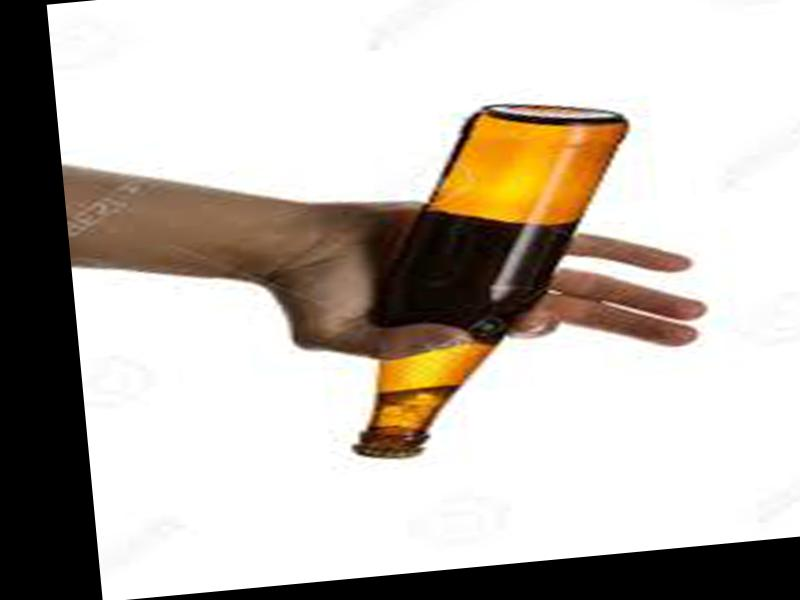Beer: (329, 95, 647, 454)
